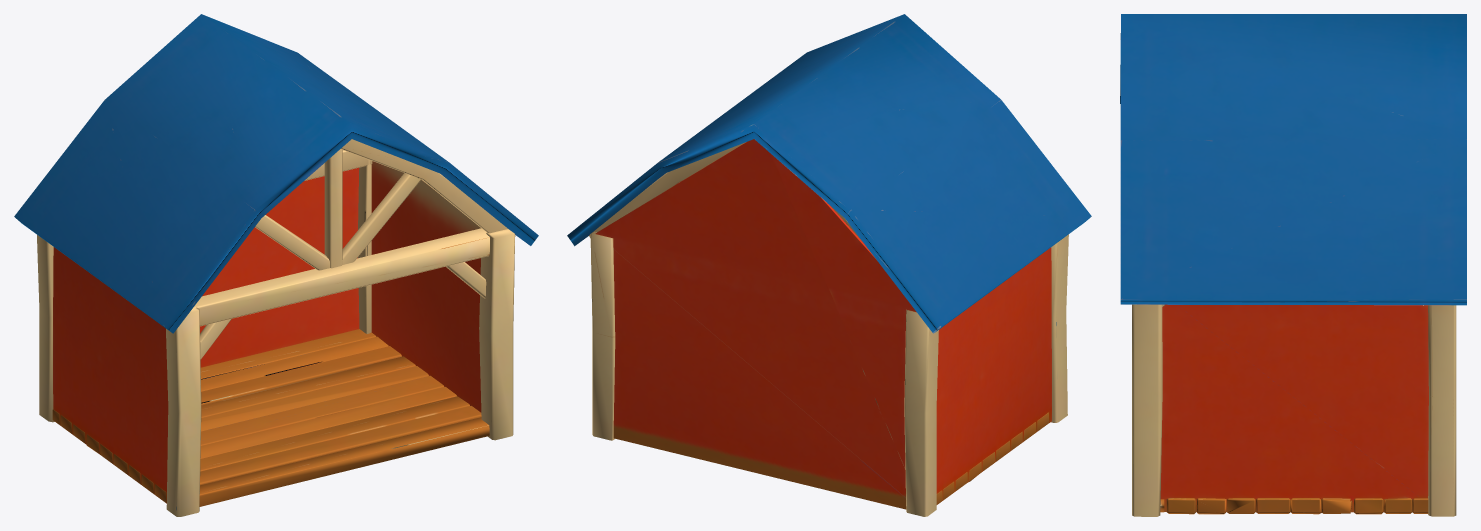
Rendered from barn.glb.
The picture shows the model from 3 angles, left to right: view 1: azimuth 30°, elevation 25°; view 2: azimuth 150°, elevation 25°; view 3: azimuth 270°, elevation 25°; orthographic projection. The views are drawn at different scales.
Parts seen in each view (by area): view 1: geometry_0; view 2: geometry_0; view 3: geometry_0.
Part boxes in pixels (box(x1,y1,x2,y2)): geometry_0: box(14, 14, 538, 516); geometry_0: box(567, 14, 1091, 516); geometry_0: box(1120, 14, 1466, 516).
Size of the model in its own units: 0.9419 by 0.856 by 0.6577.
1 material, 1 textured.
